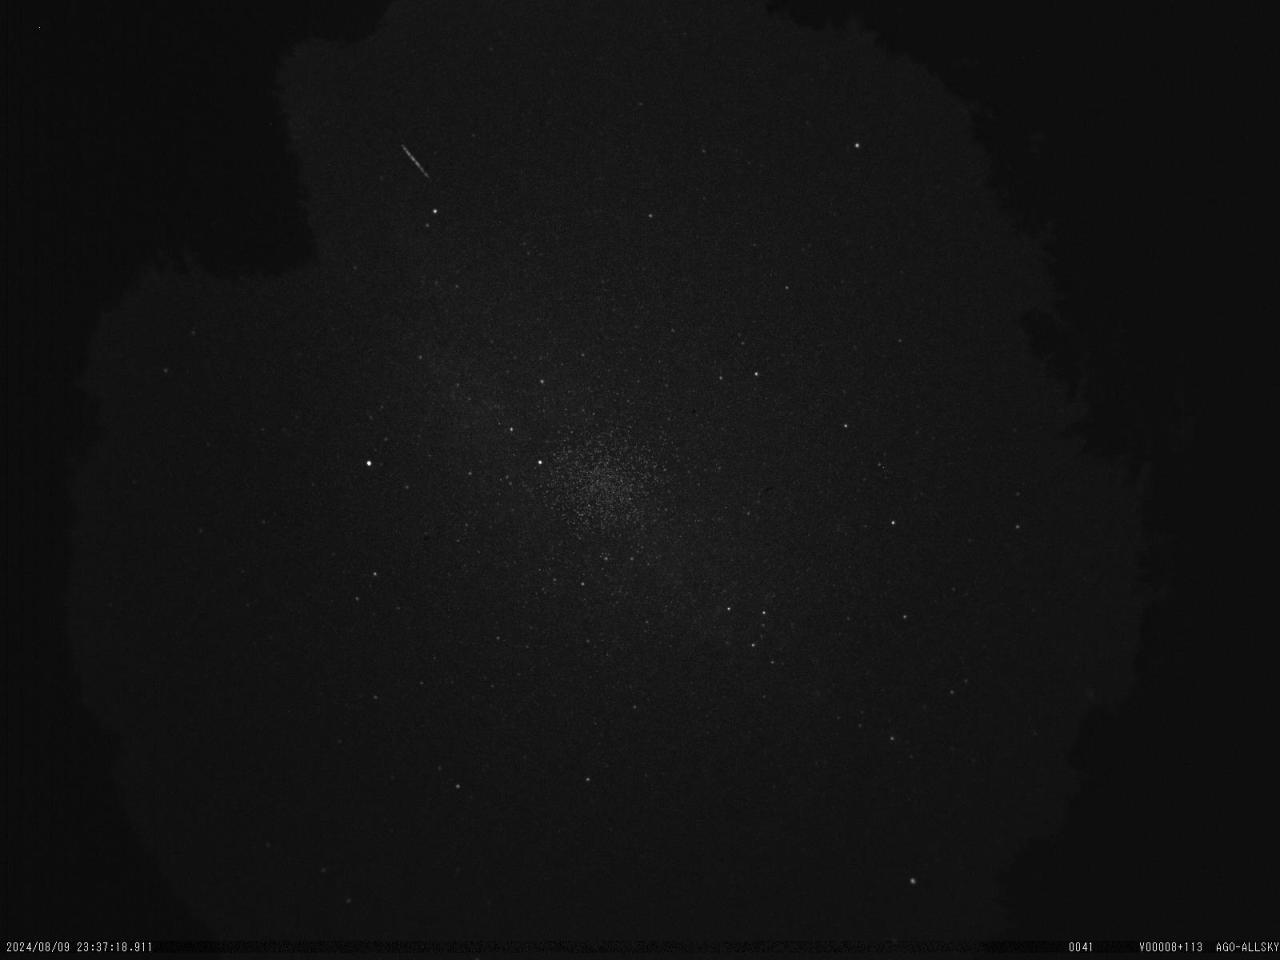Meteor: (398, 138, 432, 181)
